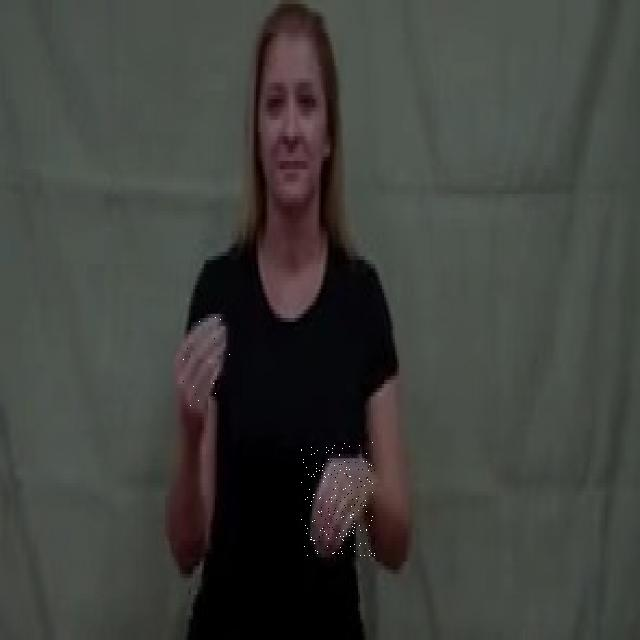ingredients: (301, 441, 375, 557), (170, 313, 236, 421)
